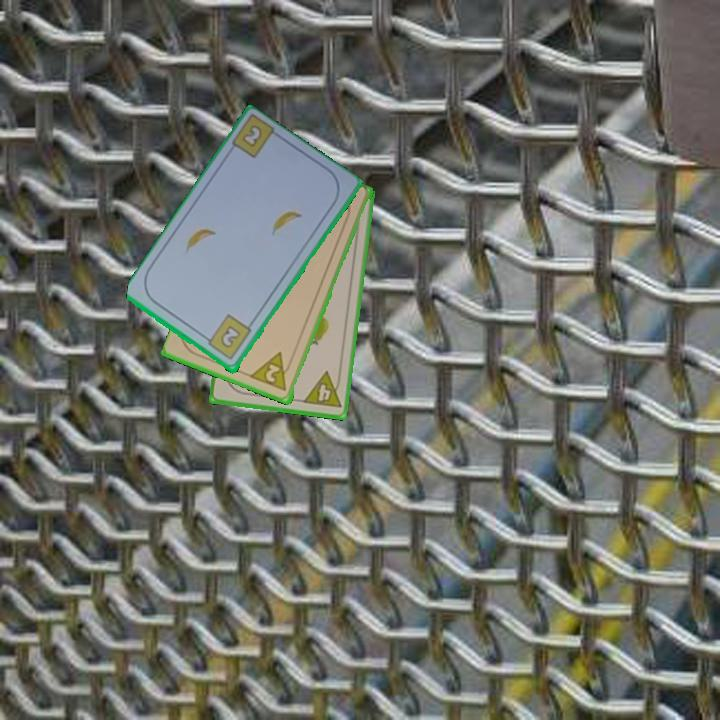2b: (200, 311, 254, 363), (241, 123, 263, 148)
2p: (248, 349, 295, 395)
4p: (299, 368, 344, 411)
